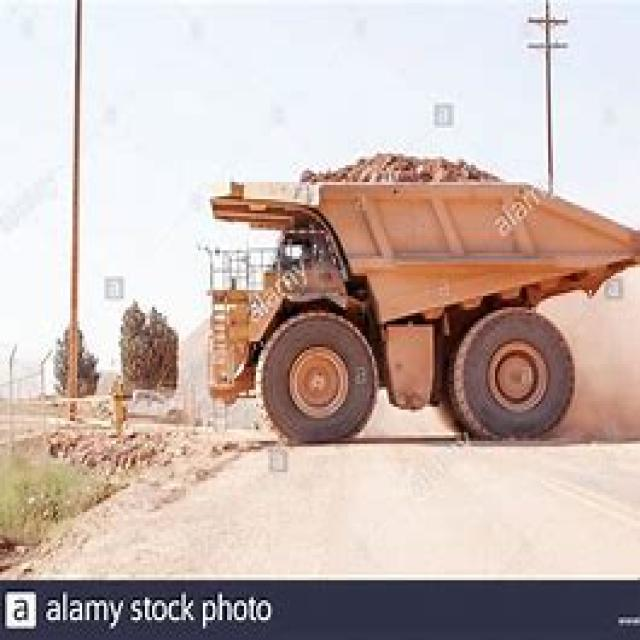dump_truck: (205, 142, 635, 444)
